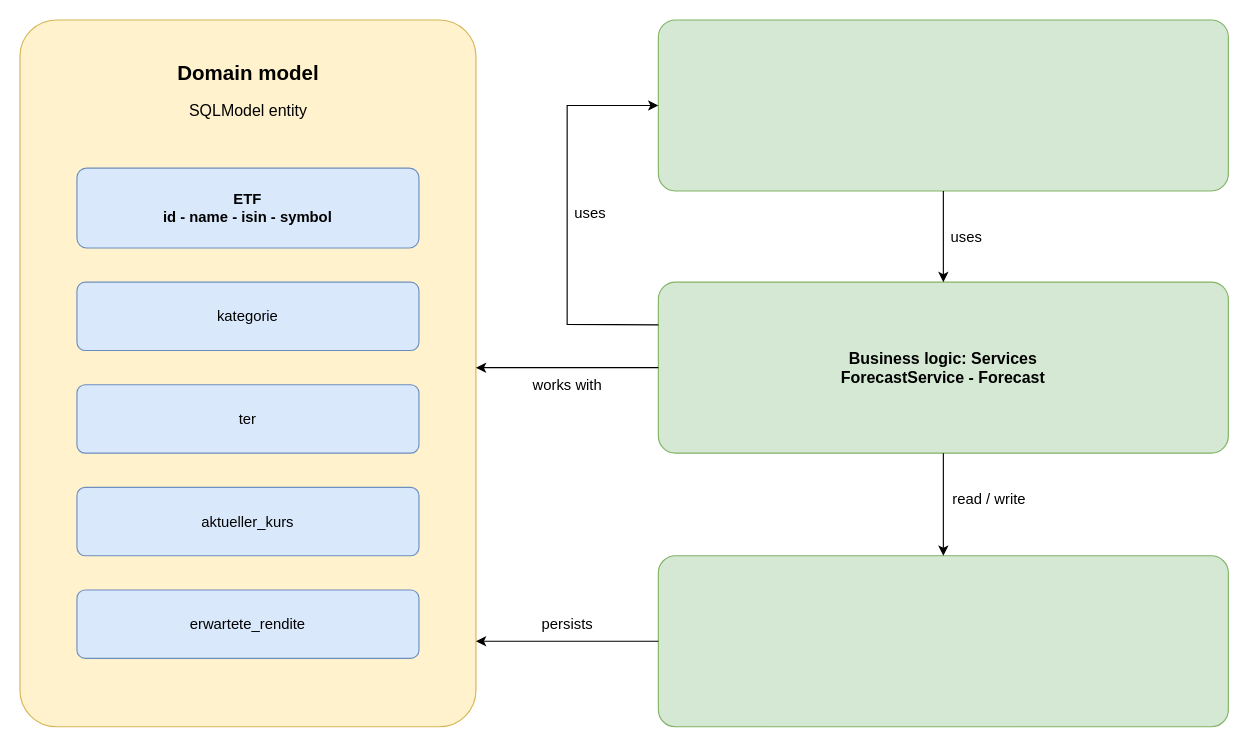
Some shapes in this 1248 by 747 pixel diagram are drawn without their labels. The centre of each missing label's shape, as x and y in pixels:
"DAO/DB: Data access ETFDAO - db.py - etf_app.db" goes at [942,641].
"UI: NiceGUI pages etf_page - forecast_page - compare_page" goes at [942,105].
